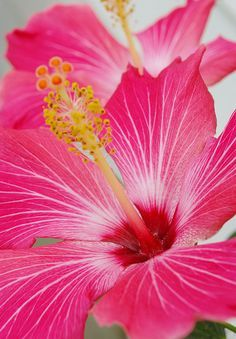Hibiscus: (1, 54, 231, 339), (3, 1, 235, 78)
